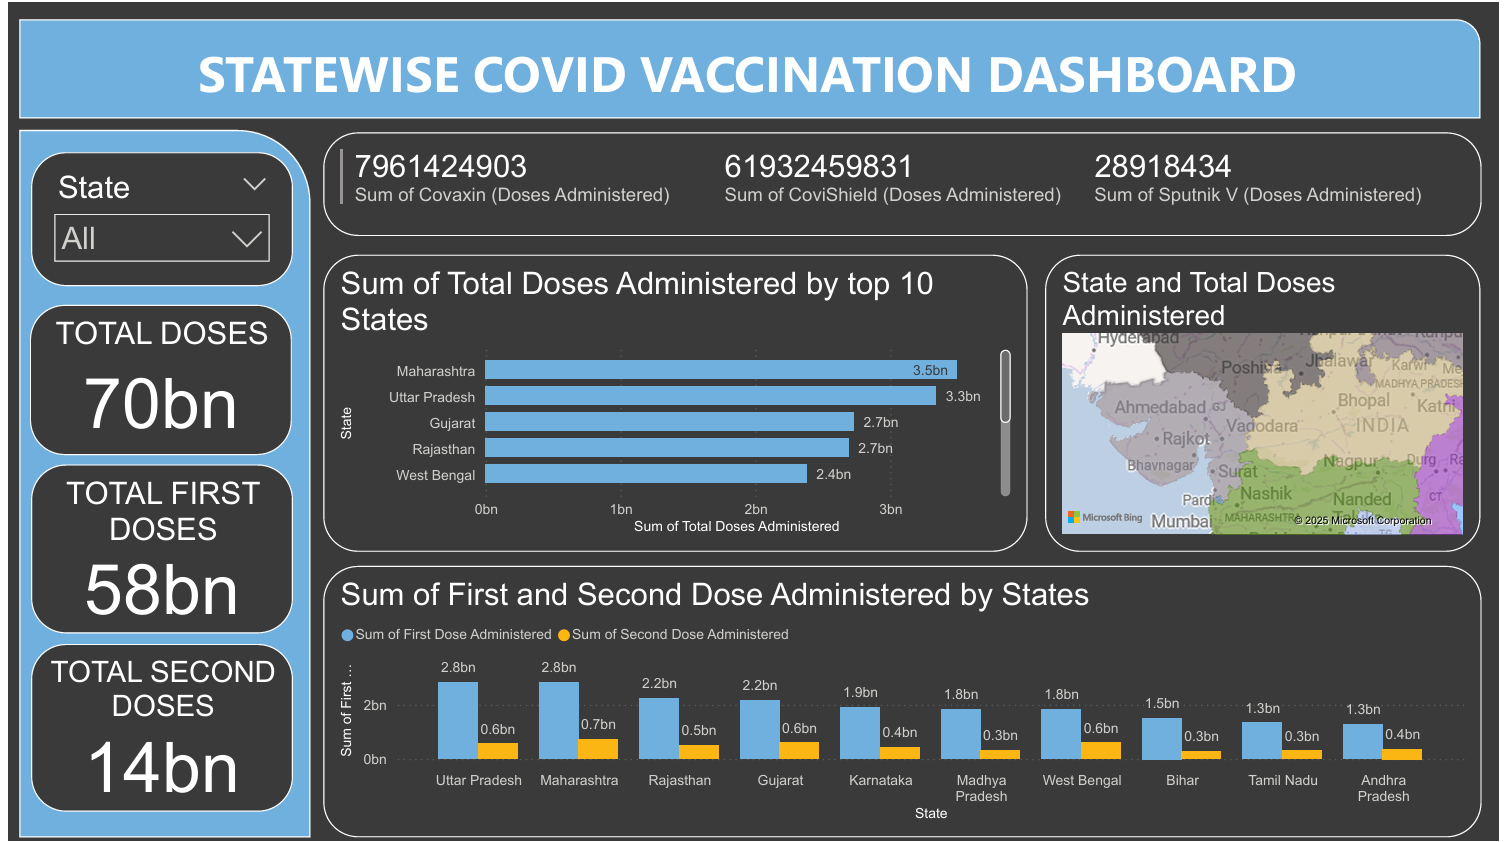

Layout of this report page (visuals, bound fields, positions):
{"tool":"powerbi","page":{"name":"Page 1","canvas":[1280,720],"ordinal":0},"visuals":[{"type":"shape","box":[8.8,108.8,250,607.5],"z":0},{"type":"card","title":"TOTAL DOSES","fields":{"Values":["Sum(covid_vaccine_statewise_cleaned.Total Doses Administered)"]},"box":[17.5,258.8,225,128.8],"z":1000},{"type":"card","title":"TOTAL SECOND DOSES","fields":{"Values":["Sum(covid_vaccine_statewise_cleaned.Second Dose Administered)"]},"box":[18.8,550,225,143.8],"z":2000},{"type":"card","title":"TOTAL FIRST DOSES","fields":{"Values":["Sum(covid_vaccine_statewise_cleaned.First Dose Administered)"]},"box":[18.8,396.2,225,145],"z":3000},{"type":"slicer","fields":{"Values":["covid_vaccine_statewise_cleaned.State"]},"box":[18.8,127.5,225,115],"z":4000},{"type":"clusteredBarChart","title":"Sum of Total Doses Administered by top 10 States","fields":{"Y":["Sum(covid_vaccine_statewise_cleaned.Total Doses Administered)"],"Category":["covid_vaccine_statewise_cleaned.State"]},"box":[270,216.2,605,255],"z":5000},{"type":"clusteredColumnChart","title":"Sum of First and Second Dose Administered by States","fields":{"Category":["covid_vaccine_statewise_cleaned.State"],"Y":["Sum(covid_vaccine_statewise_cleaned.First Dose Administered)","Sum(covid_vaccine_statewise_cleaned.Second Dose Administered)"]},"box":[270,482.5,995,233.8],"z":6000},{"type":"filledMap","fields":{"Category":["covid_vaccine_statewise_cleaned.State"],"Series":["covid_vaccine_statewise_cleaned.Total Doses Administered"]},"box":[890,216.2,373.8,255],"z":7000},{"type":"shape","box":[8.8,13.8,1255,85],"z":8000},{"type":"multiRowCard","title":"Vaccines and Doses Administered","fields":{"Values":["Sum(covid_vaccine_statewise_cleaned. Covaxin (Doses Administered))","Sum(covid_vaccine_statewise_cleaned.CoviShield (Doses Administered))","Sum(covid_vaccine_statewise_cleaned.Sputnik V (Doses Administered))"]},"box":[270,111.2,995,88.8],"z":9000},{"type":"textbox","box":[17.5,25,1232.5,68.8],"z":10000}]}

Visuals, with their boxes in screenshot pixels (x1, y1, x2, y2), scaled from the page's 1280x720 canvas onto the 1507x842 screenshot:
shape: [x1=10, y1=127, x2=305, y2=838]
"TOTAL DOSES" card: [x1=21, y1=303, x2=286, y2=453]
"TOTAL SECOND DOSES" card: [x1=22, y1=643, x2=287, y2=811]
"TOTAL FIRST DOSES" card: [x1=22, y1=463, x2=287, y2=633]
slicer - covid_vaccine_statewise_cleaned.State: [x1=22, y1=149, x2=287, y2=284]
"Sum of Total Doses Administered by top 10 States" clusteredBarChart: [x1=318, y1=253, x2=1030, y2=551]
"Sum of First and Second Dose Administered by States" clusteredColumnChart: [x1=318, y1=564, x2=1489, y2=838]
filledMap - covid_vaccine_statewise_cleaned.State x covid_vaccine_statewise_cleaned.Total Doses Administered: [x1=1048, y1=253, x2=1488, y2=551]
shape: [x1=10, y1=16, x2=1488, y2=116]
"Vaccines and Doses Administered" multiRowCard: [x1=318, y1=130, x2=1489, y2=234]
textbox: [x1=21, y1=29, x2=1472, y2=110]
